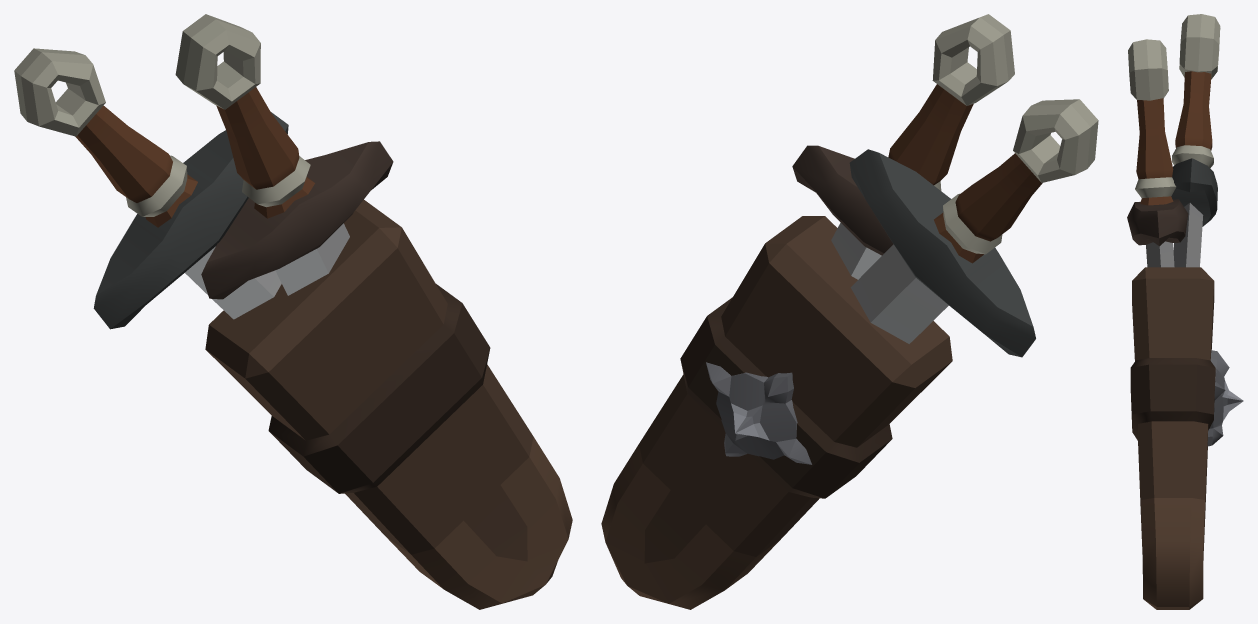
Rendered from Back_4.fbx.
3 renders of one model, left to right at view 1: azimuth 30°, elevation 25°; view 2: azimuth 150°, elevation 25°; view 3: azimuth 270°, elevation 25°, orthographic. The views are drawn at different scales.
Parts seen in each view (by area): view 1: Back_4; view 2: Back_4; view 3: Back_4.
Boxes of the visible parts, <box> form: Back_4: <box>14,14,572,609</box>; Back_4: <box>601,14,1098,609</box>; Back_4: <box>1127,14,1243,609</box>.
Bounding box in the file's own units: 68.99 × 84.02 × 19.31.
